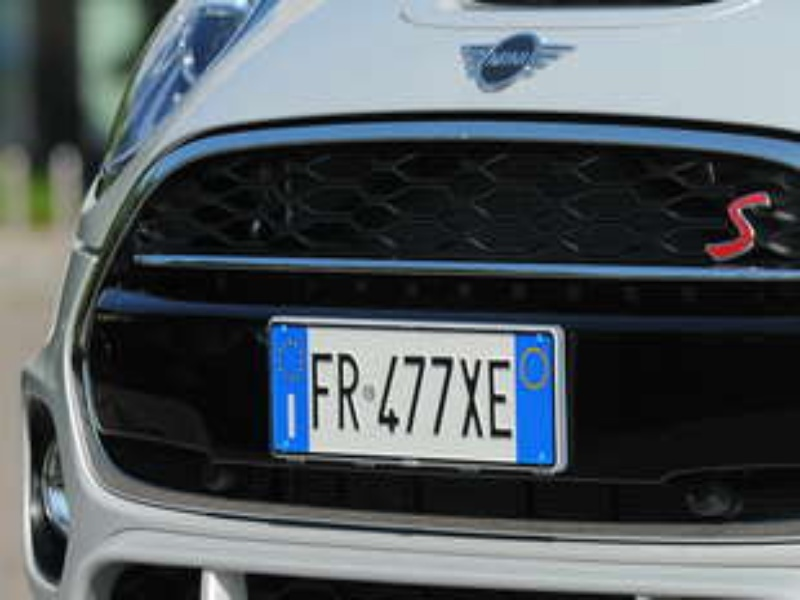licenceplate: (263, 317, 571, 471)
